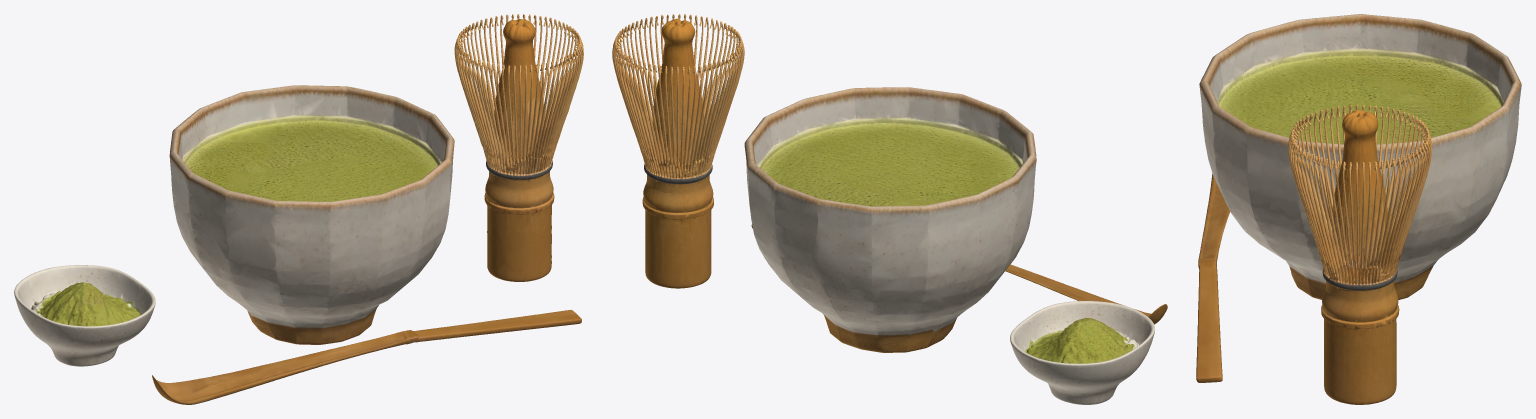
File: matcha-ceremony-web.glb
3 views of the same model, side by side, from view 1: azimuth 30°, elevation 25°; view 2: azimuth 150°, elevation 25°; view 3: azimuth 270°, elevation 25° (orthographic). The views are drawn at different scales.
Bounding box in the file's own units: 1.9 × 0.8595 × 0.9091.
1 material, 1 textured.
